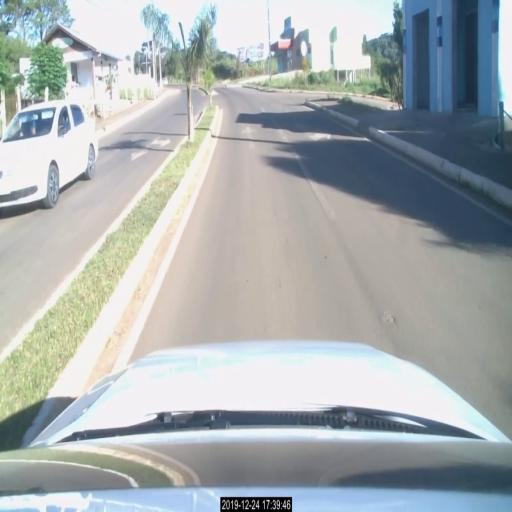Pothole: (380, 298, 408, 329)
